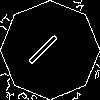I: (25, 25, 67, 67)
